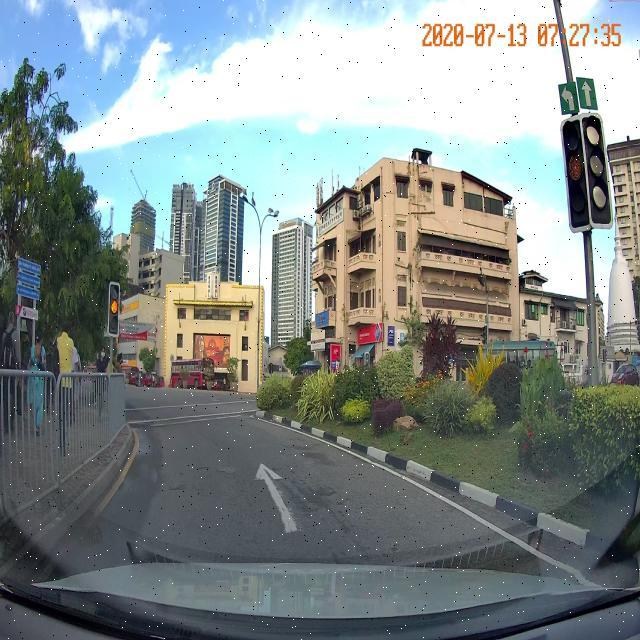forward: (63, 453, 477, 546)
